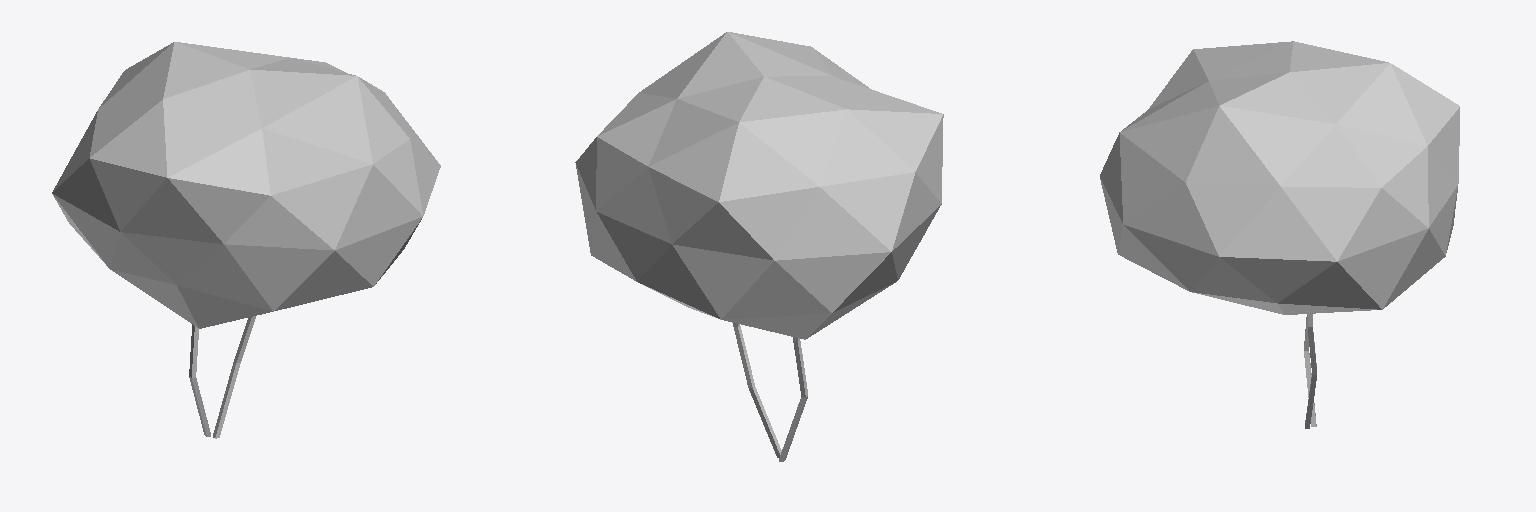
Rendered from bush1.obj.
3 renders of one model, left to right at view 1: azimuth 30°, elevation 25°; view 2: azimuth 150°, elevation 25°; view 3: azimuth 270°, elevation 25°, orthographic.
Visible parts, largest first — view 1: Bush_5_Cube.004; view 2: Bush_5_Cube.004; view 3: Bush_5_Cube.004.
Boxes of the visible parts, <box> form: Bush_5_Cube.004: <box>52,42,440,438</box>; Bush_5_Cube.004: <box>575,32,943,461</box>; Bush_5_Cube.004: <box>1100,41,1459,428</box>.
Bounding box in the file's own units: 0.6743 × 0.7264 × 0.6426.